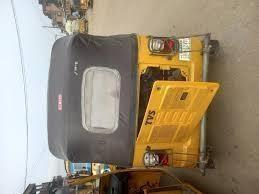keke: (45, 32, 224, 178)
